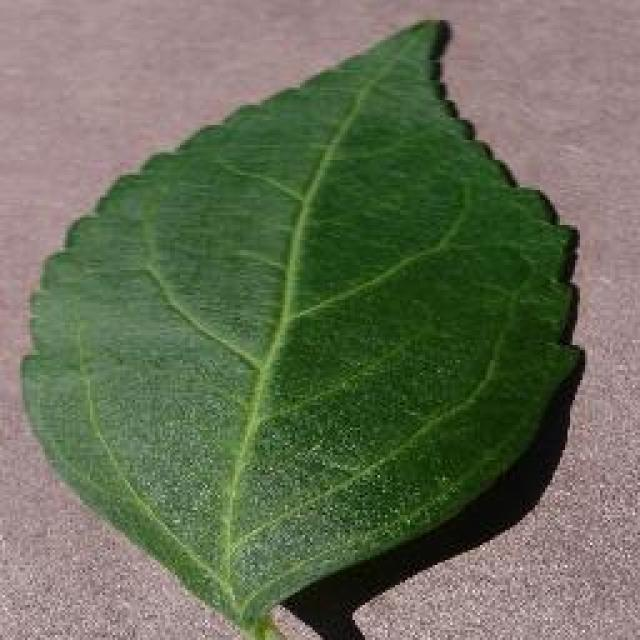Cherry___healthy: (5, 10, 593, 640)
